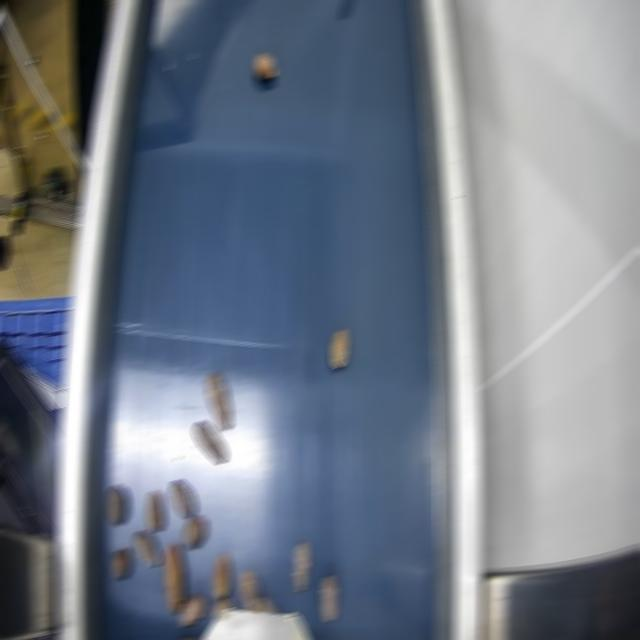Baby Potato: (206, 372, 231, 430), (195, 421, 226, 463), (166, 542, 183, 612), (134, 530, 159, 567), (171, 480, 194, 517), (240, 571, 261, 611), (179, 594, 206, 625), (294, 541, 309, 592), (213, 554, 230, 599), (320, 577, 337, 622), (107, 484, 126, 524), (147, 490, 164, 531), (184, 516, 205, 549), (331, 328, 348, 368), (112, 547, 131, 578), (255, 53, 276, 79), (212, 599, 233, 617), (260, 597, 277, 613)
